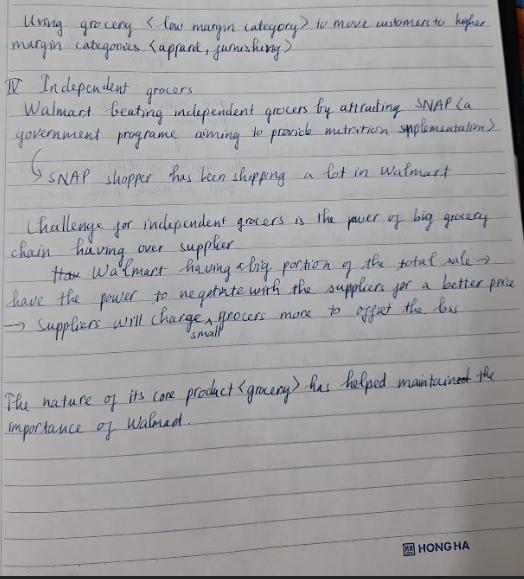text: (2, 364, 498, 416), (34, 293, 461, 345), (2, 270, 519, 312), (48, 246, 493, 288), (13, 115, 498, 152), (25, 210, 489, 245), (22, 94, 474, 127), (23, 10, 489, 38), (47, 158, 453, 189), (9, 231, 236, 269), (10, 35, 293, 63), (3, 71, 196, 108), (7, 409, 192, 446), (418, 538, 471, 557)
